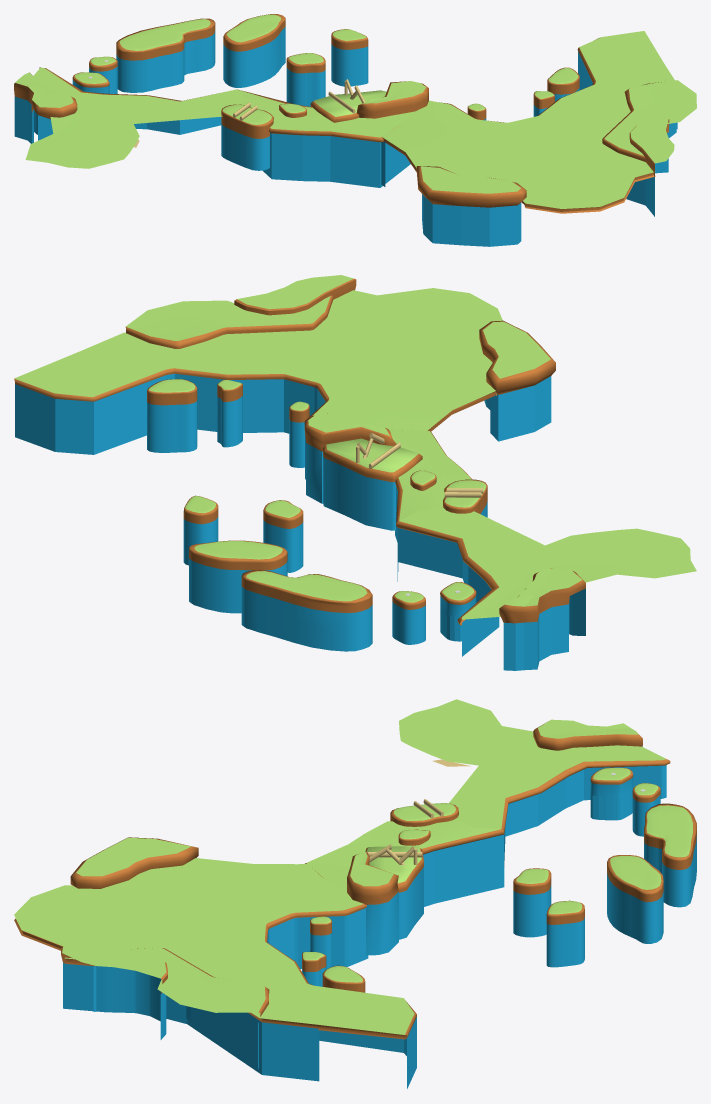
Rendered from Nivel 2 P1,C1,H1.FBX.
The picture shows the model from 3 angles, top to bottom: view 1: azimuth 30°, elevation 25°; view 2: azimuth 150°, elevation 25°; view 3: azimuth 270°, elevation 25°; orthographic projection. The views are drawn at different scales.
Visible parts, largest first — view 1: H1_Altura1_1, P1_Altura1_1, C1_Altura1_1, H1_Alt_3, P1_Altura1_4, P1_Altura1_5, H1_Altura2_1, P1_Altura3_1, P1_Altura2_1, P1_Altura1_6, H1_Altura3_1, P1_Altura1_7 (+5 smaller); view 2: H1_Altura1_1, P1_Altura1_1, P1_Altura1_4, H1_Alt_3, P1_Altura3_1, C1_Altura2_2, H1_Altura2_1, H1_Altura1_3 (×2), P1_Altura1_5, C1_Altura1_1, C1_Altura4_1, H1_Altura3_1 (+6 smaller); view 3: H1_Altura1_1, P1_Altura1_1, C1_Altura1_1, H1_Altura3_1, H1_Altura2_1, P1_Altura1_5, P1_Altura1_4, H1_Alt_3, C1_Altura4_1, P1_Altura3_1, P1_Altura1_6, P1_Altura1_7 (+6 smaller).
Part boxes in pixels (x1,y1,x2,y2): H1_Altura1_1: (381, 31, 676, 213); P1_Altura1_1: (25, 67, 246, 168); C1_Altura1_1: (237, 89, 412, 187); H1_Alt_3: (416, 166, 526, 246); P1_Altura1_4: (116, 18, 215, 92); P1_Altura1_5: (223, 14, 285, 87); H1_Altura2_1: (602, 80, 696, 205); P1_Altura3_1: (14, 72, 77, 143); P1_Altura2_1: (221, 104, 273, 170); P1_Altura1_6: (331, 29, 368, 86); H1_Altura3_1: (629, 119, 674, 216); P1_Altura1_7: (286, 53, 325, 106); H1_Altura1_1: (14, 288, 502, 479); P1_Altura1_1: (396, 508, 696, 656); P1_Altura1_4: (241, 570, 372, 651); H1_Alt_3: (479, 320, 555, 441); P1_Altura3_1: (499, 568, 585, 670); C1_Altura2_2: (323, 438, 422, 530); H1_Altura2_1: (125, 295, 333, 348); H1_Altura1_3 (×2): (147, 379, 242, 452); P1_Altura1_5: (189, 540, 287, 613); C1_Altura1_1: (389, 429, 472, 581); C1_Altura4_1: (304, 413, 396, 503); H1_Altura3_1: (234, 275, 356, 315); H1_Altura1_1: (14, 858, 416, 1088); P1_Altura1_1: (399, 699, 670, 867); C1_Altura1_1: (305, 819, 504, 906); H1_Altura3_1: (61, 947, 167, 1039); H1_Altura2_1: (93, 948, 269, 1068); P1_Altura1_5: (607, 855, 663, 943); P1_Altura1_4: (644, 803, 696, 907); H1_Alt_3: (70, 837, 198, 888); C1_Altura4_1: (347, 852, 398, 955); P1_Altura3_1: (533, 719, 642, 750); P1_Altura1_6: (546, 900, 584, 967); P1_Altura1_7: (513, 868, 551, 937).
Size of the model in its own units: 203 by 23.7 by 174.
